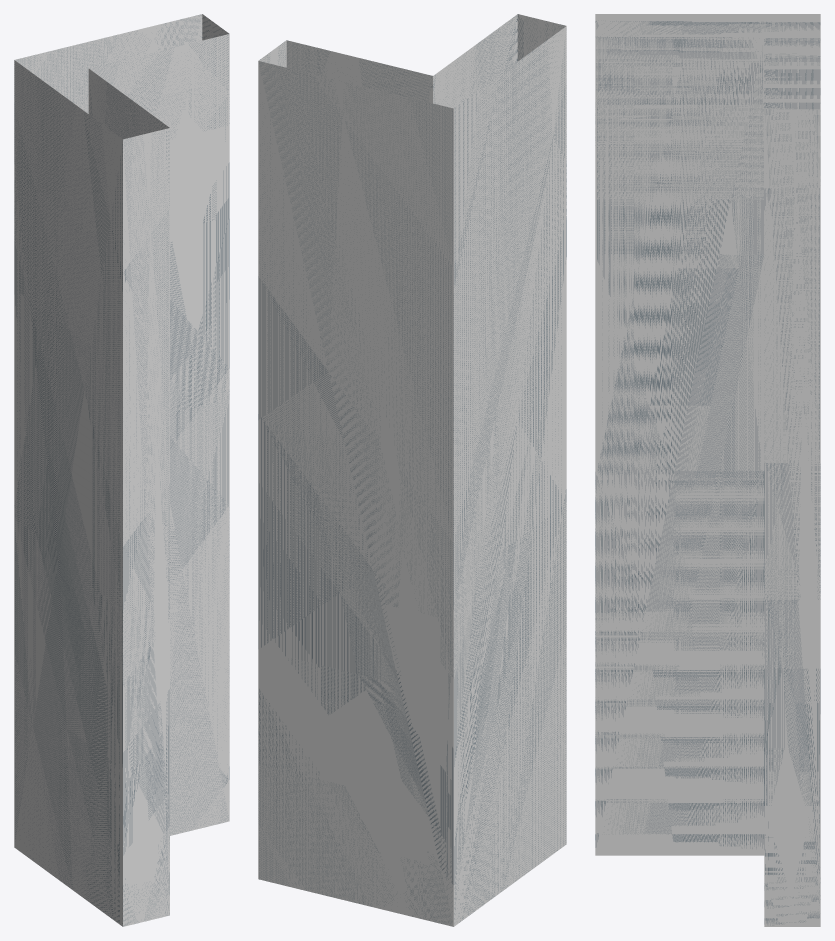
Rendered from Corner_ds_075x075x025x4.dae.
3 views of the same model, side by side, from view 1: azimuth 30°, elevation 25°; view 2: azimuth 150°, elevation 25°; view 3: azimuth 270°, elevation 25° (orthographic). The views are drawn at different scales.
Visible parts, largest first — view 1: group_0; view 2: group_0; view 3: group_0.
Part boxes in pixels (x1,y1,x2,y2): group_0: (14,14,229,926); group_0: (258,14,566,926); group_0: (595,14,820,926).
Bounding box in the file's own units: 39.37 × 39.37 × 157.
